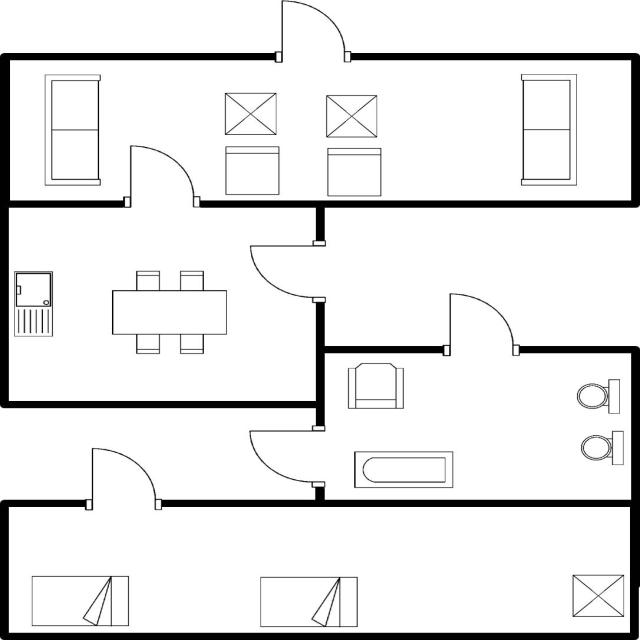armchair: (340, 357, 409, 413)
bed: (252, 572, 365, 630), (25, 570, 135, 629)
coffee_table: (565, 570, 628, 621), (218, 90, 284, 138), (319, 91, 383, 140)
dining_table: (103, 264, 232, 358)
large_sink: (573, 425, 626, 472), (571, 373, 624, 418)
large_sofa: (512, 69, 582, 192), (40, 71, 104, 189)
sink: (11, 266, 57, 340)
small_sofa: (219, 143, 286, 197), (322, 143, 385, 199)
tub: (346, 445, 459, 493)
